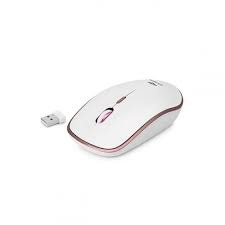mouse: (58, 76, 181, 156)
